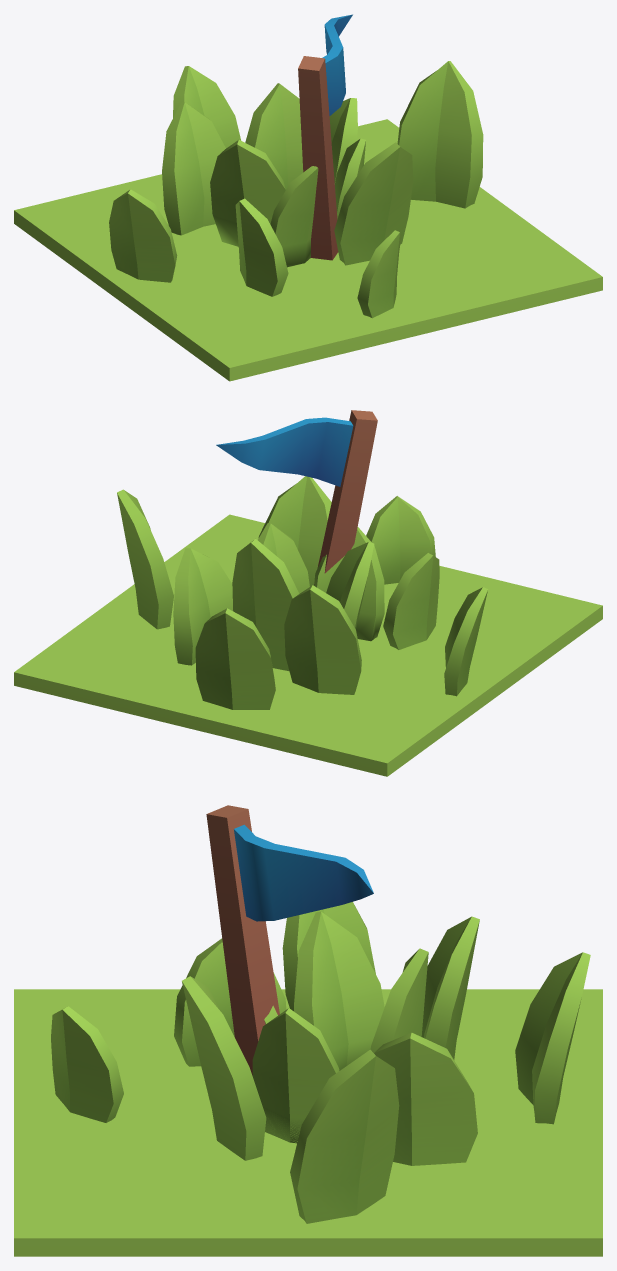
File: flag.glb
3 views of the same model, one above another, from view 1: azimuth 30°, elevation 25°; view 2: azimuth 150°, elevation 25°; view 3: azimuth 270°, elevation 25° (orthographic). The views are drawn at different scales.
Visible parts, largest first — view 1: Flag; view 2: Flag; view 3: Flag.
Boxes of the visible parts, x1,y1,x2,y2 form: Flag: (14,14,602,381); Flag: (14,410,602,776); Flag: (14,805,602,1256).
Size of the model in its own units: 0.29 by 0.1898 by 0.29.
2 materials, 2 textured.
